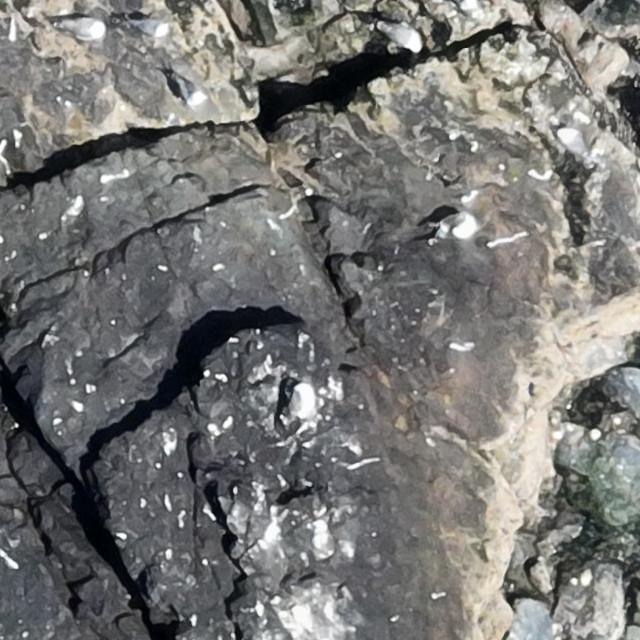umineko: (373, 18, 423, 52), (282, 381, 318, 420), (168, 68, 206, 104), (559, 126, 595, 164), (430, 212, 476, 238), (64, 19, 100, 38), (131, 19, 166, 36)
